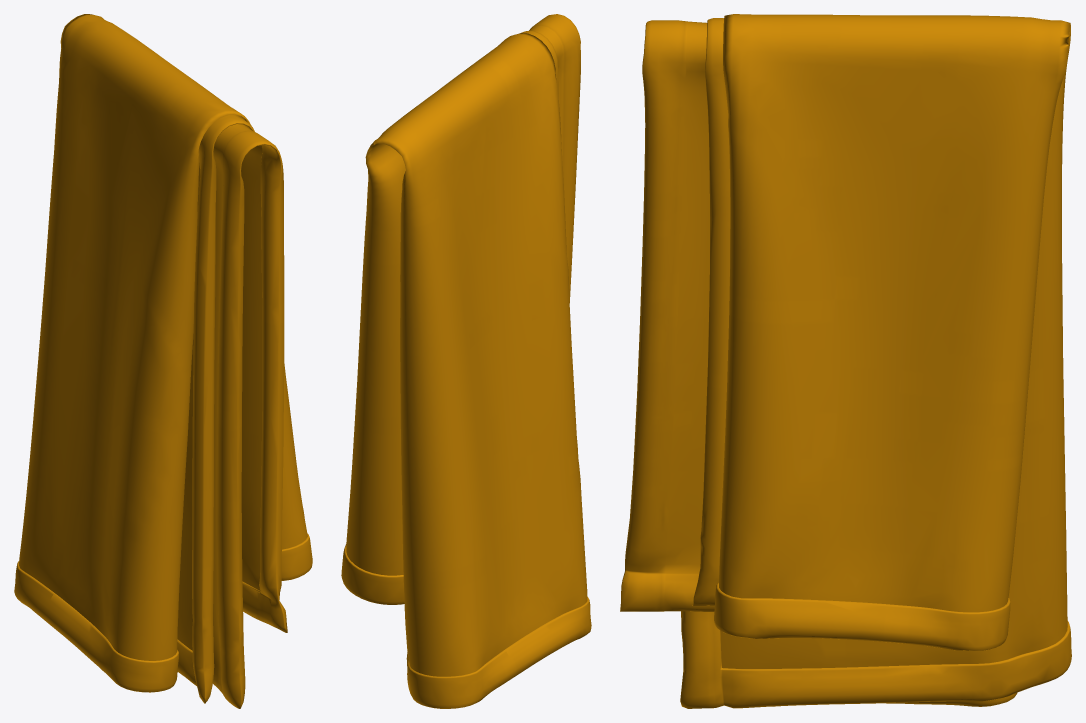
The model's file is SR-cleaning_towel_a01.glb.
3 views of the same model, side by side, from view 1: azimuth 30°, elevation 25°; view 2: azimuth 150°, elevation 25°; view 3: azimuth 270°, elevation 25° (orthographic). The views are drawn at different scales.
Visible parts, largest first — view 1: towel_01_mesh_00; view 2: towel_01_mesh_00; view 3: towel_01_mesh_00.
Part boxes in pixels (x1,y1,x2,y2): towel_01_mesh_00: (14, 14, 312, 708); towel_01_mesh_00: (341, 14, 591, 708); towel_01_mesh_00: (620, 14, 1071, 708).
Size of the model in its own units: 0.0767 by 0.239 by 0.1405.
1 material, 1 textured.
